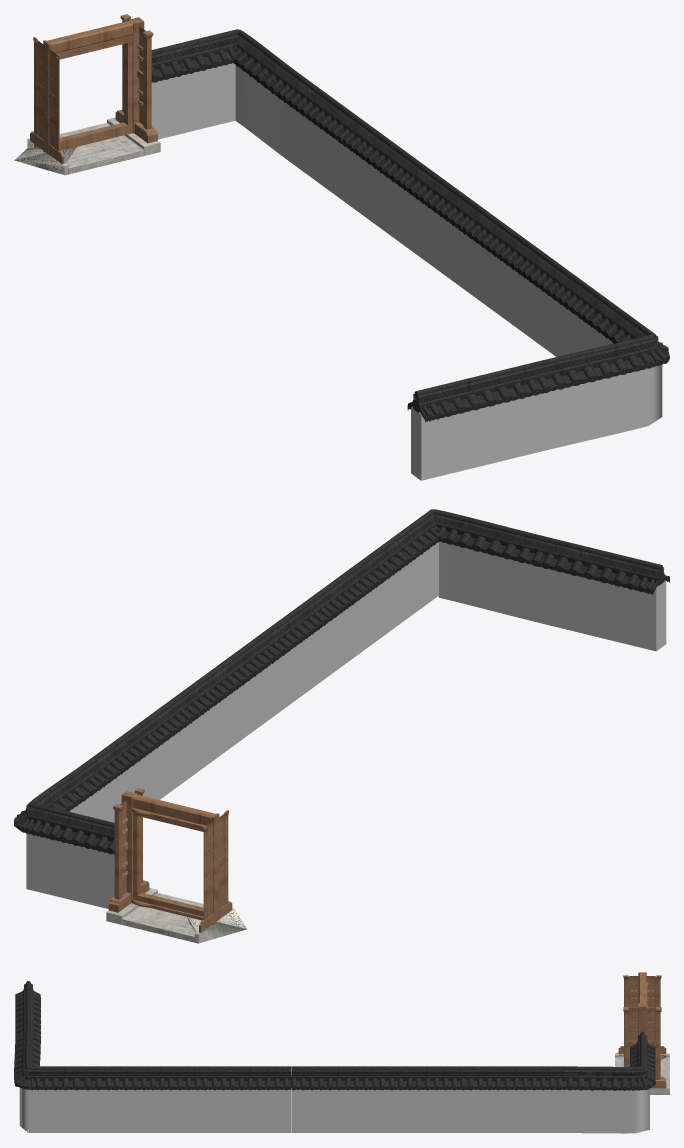
The model's file is SM_JSH_HG_StoneWallH_Splines_39.fbx.
3 views of the same model, one above another, from view 1: azimuth 30°, elevation 25°; view 2: azimuth 150°, elevation 25°; view 3: azimuth 270°, elevation 25° (orthographic). The views are drawn at different scales.
Visible parts, largest first — view 1: SM_JSH_HG_StoneWallH_Splines_39; view 2: SM_JSH_HG_StoneWallH_Splines_39; view 3: SM_JSH_HG_StoneWallH_Splines_39.
Boxes of the visible parts, bbox=[...] form: SM_JSH_HG_StoneWallH_Splines_39: bbox=[14, 14, 669, 480]; SM_JSH_HG_StoneWallH_Splines_39: bbox=[14, 509, 669, 943]; SM_JSH_HG_StoneWallH_Splines_39: bbox=[14, 972, 669, 1133].
Size of the model in its own units: 554 by 1675 by 248.
